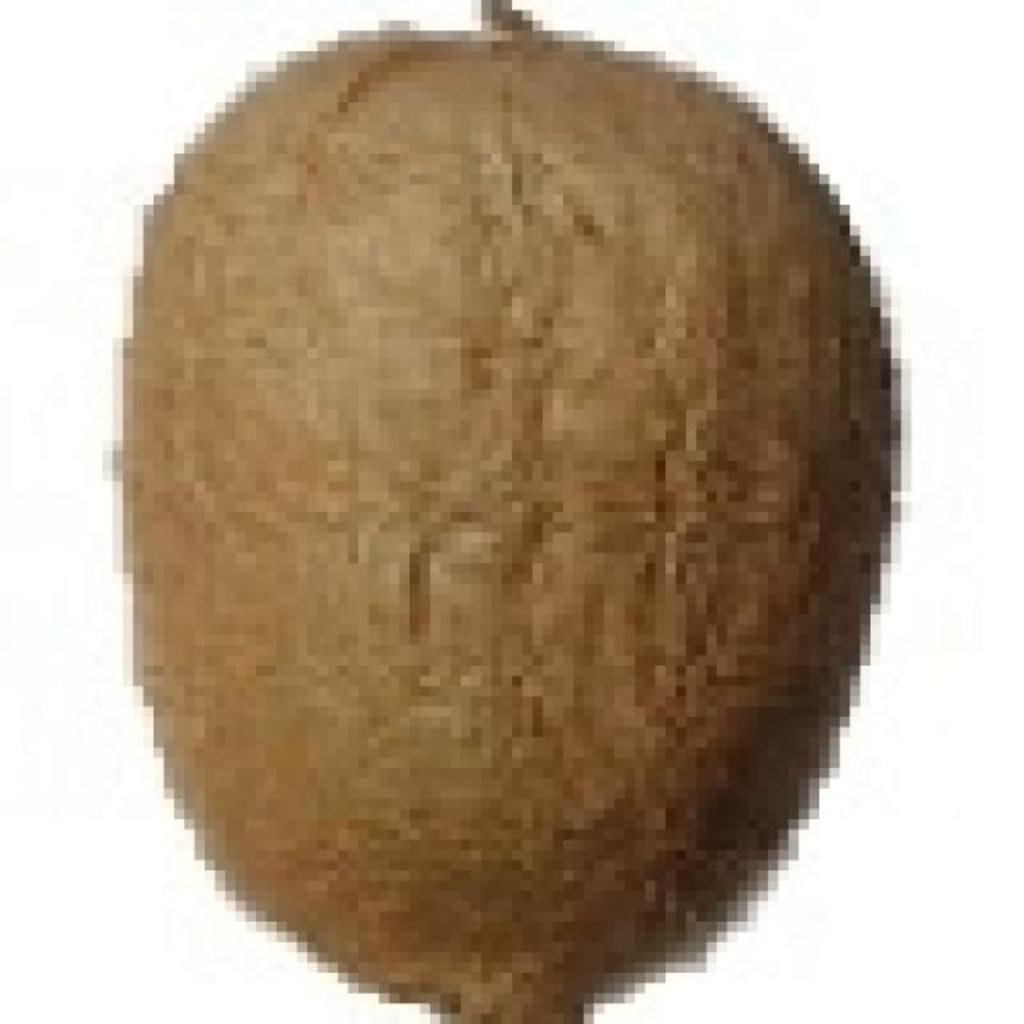kiwi: (113, 10, 870, 1004)
